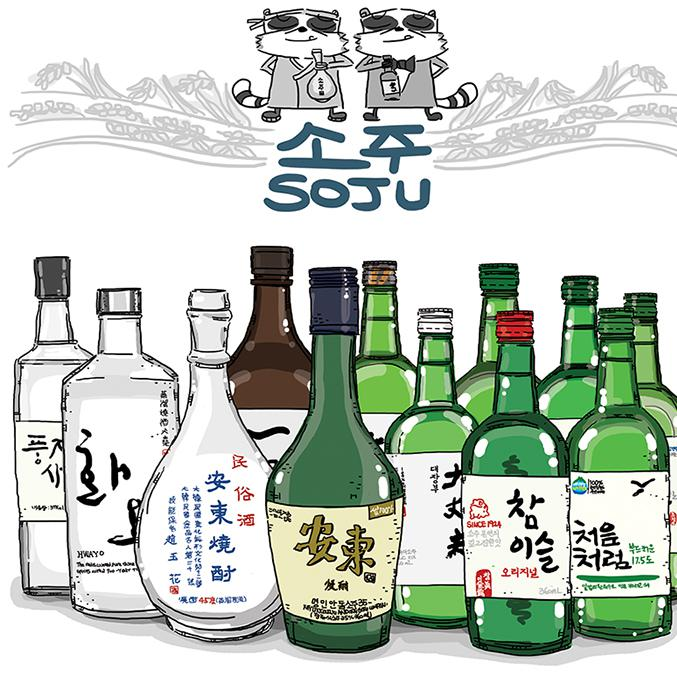soju: (10, 245, 674, 655)
